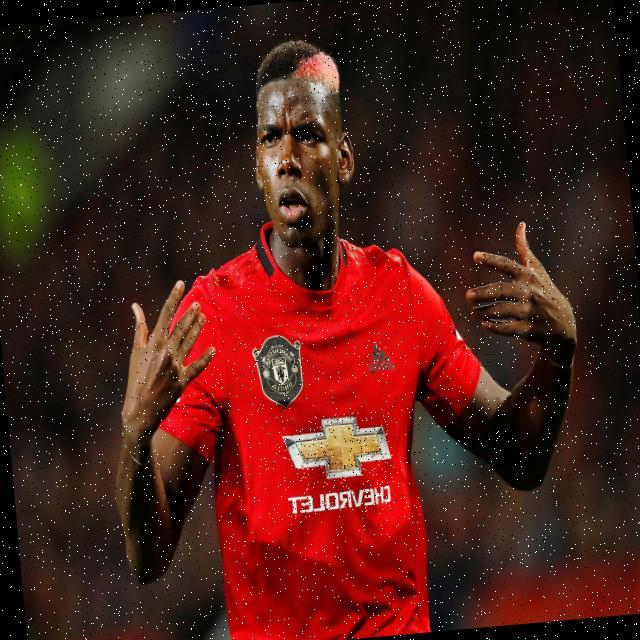Adidas: (365, 337, 395, 376)
Chevrolet: (278, 410, 396, 519)
